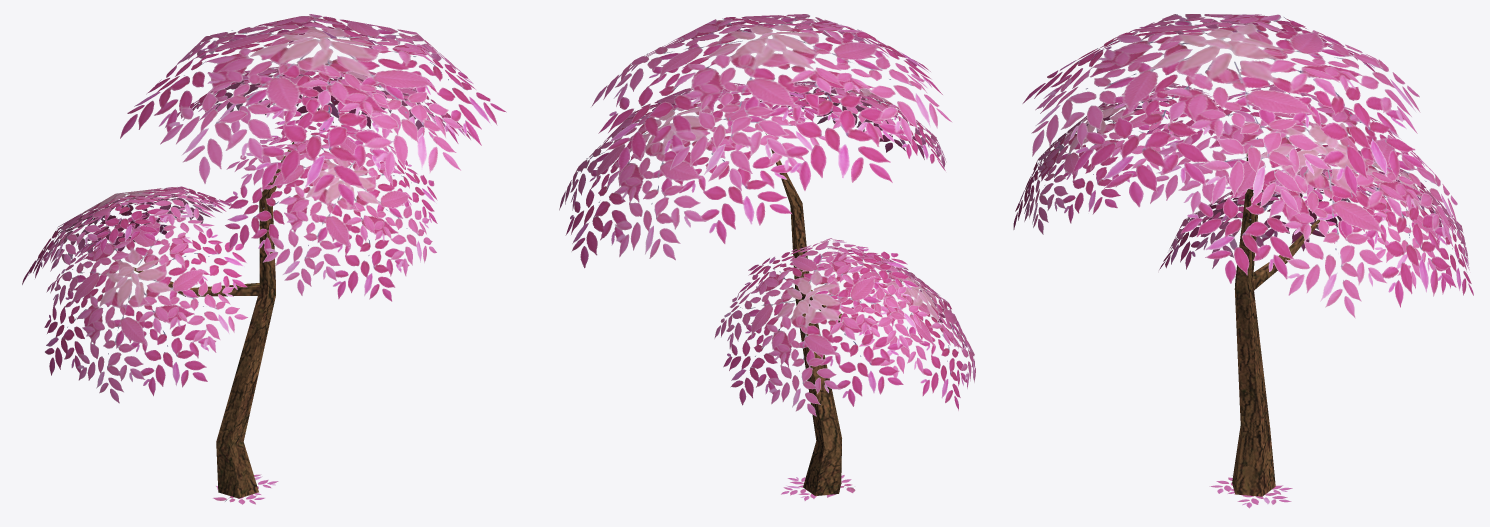
File: pinktree.fbx
The picture shows the model from 3 angles, left to right: view 1: azimuth 30°, elevation 25°; view 2: azimuth 150°, elevation 25°; view 3: azimuth 270°, elevation 25°; orthographic projection. The views are drawn at different scales.
Visible parts, largest first — view 1: polySurface1; view 2: polySurface1; view 3: polySurface1.
Boxes of the visible parts, x1,y1,x2,y2 form: polySurface1: [22, 14, 506, 504]; polySurface1: [559, 14, 975, 500]; polySurface1: [1013, 14, 1473, 508].
Size of the model in its own units: 22.51 by 23.69 by 20.77.
Materials: 1 (1 with a texture image).
